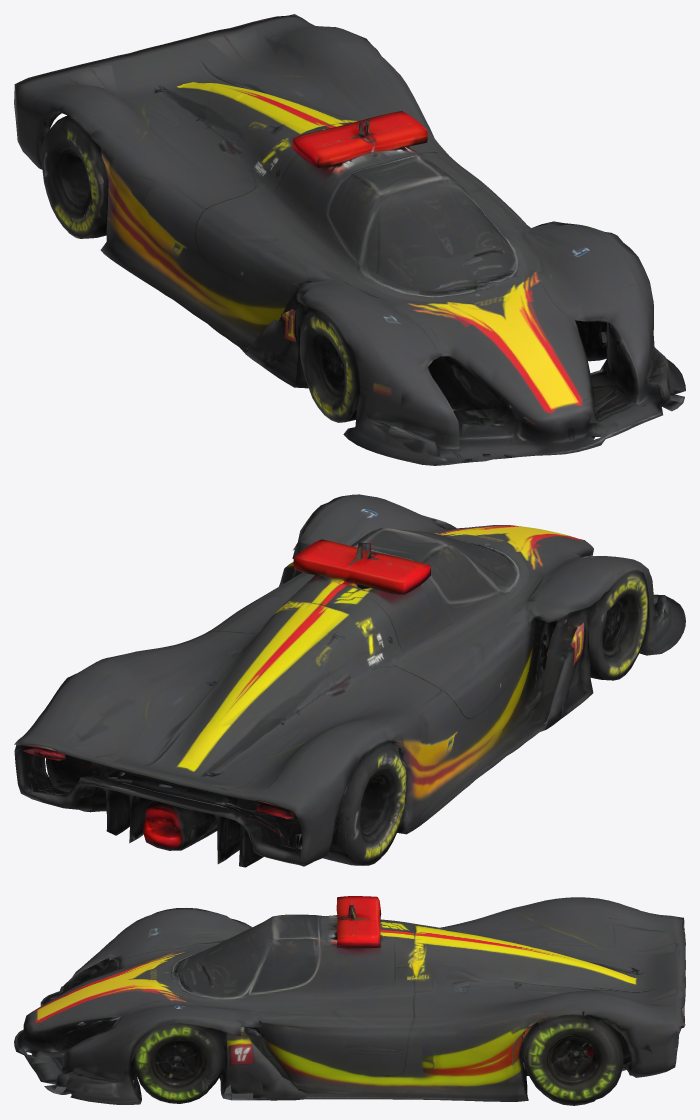
3 renders of one model, top to bottom at view 1: azimuth 30°, elevation 25°; view 2: azimuth 150°, elevation 25°; view 3: azimuth 270°, elevation 25°, orthographic. The views are drawn at different scales.
Size of the model in its own units: 0.8723 by 0.4678 by 2.
Materials: 1 (1 with a texture image).
